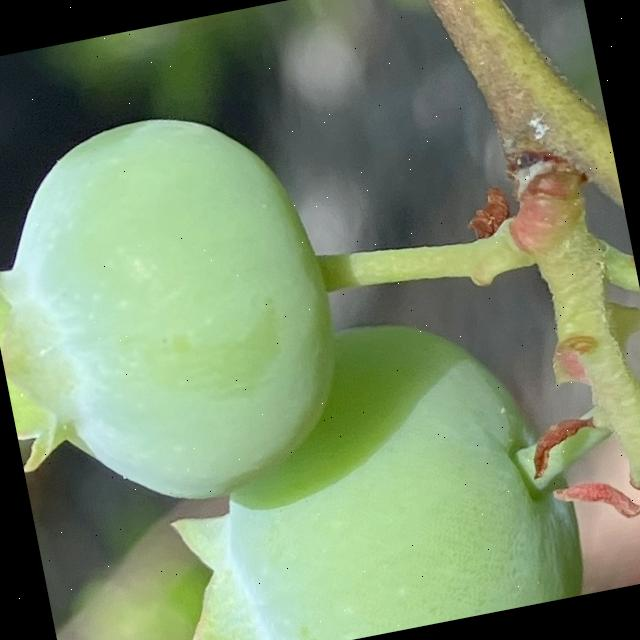Blueberries: (0, 87, 362, 530)
